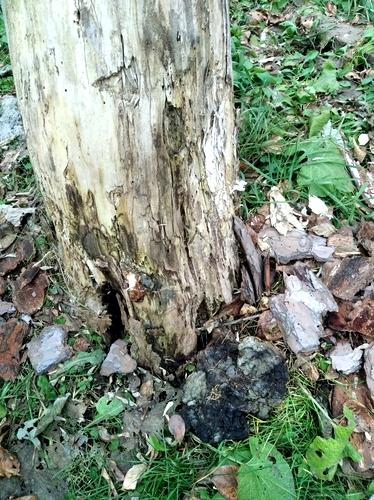Ganoderma - Fruit Body: (183, 336, 289, 439), (82, 225, 169, 302)
